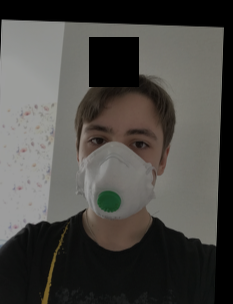with_mask: (76, 104, 161, 219)
